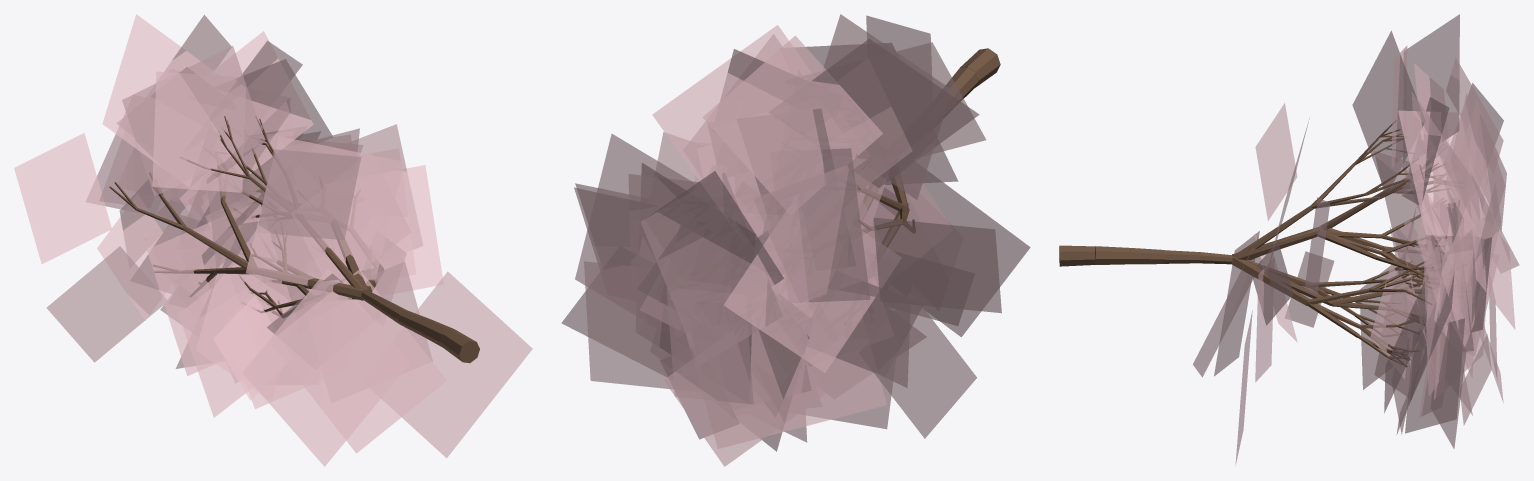
The model's file is peach_tree_1.glb.
The picture shows the model from 3 angles, left to right: view 1: azimuth 30°, elevation 25°; view 2: azimuth 150°, elevation 25°; view 3: azimuth 270°, elevation 25°; orthographic projection. The views are drawn at different scales.
Visible parts, largest first — view 1: PeachBlossoms, PeachBark; view 2: PeachBlossoms, PeachBark; view 3: PeachBlossoms, PeachBark.
Part boxes in pixels (x1,y1,x2,y2): PeachBlossoms: (14, 14, 532, 466); PeachBark: (109, 116, 479, 363); PeachBlossoms: (561, 14, 1030, 466); PeachBark: (856, 48, 1000, 247); PeachBlossoms: (1193, 14, 1519, 464); PeachBark: (1059, 120, 1446, 366).
Size of the model in its own units: 8.09 by 7.86 by 8.91.
